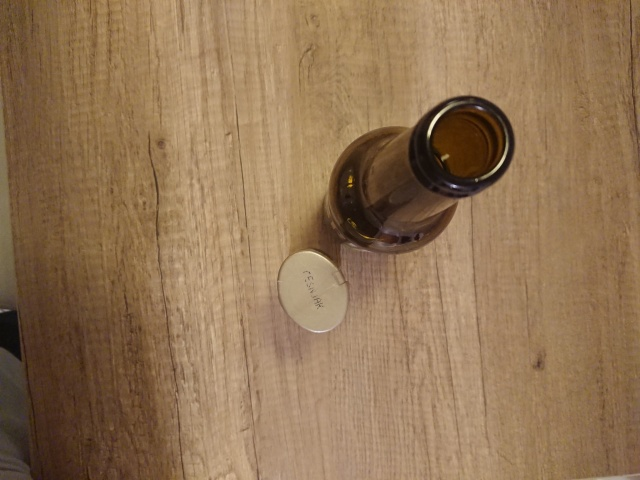Kotanyi Garlic Granules 70g: (276, 246, 353, 335)
